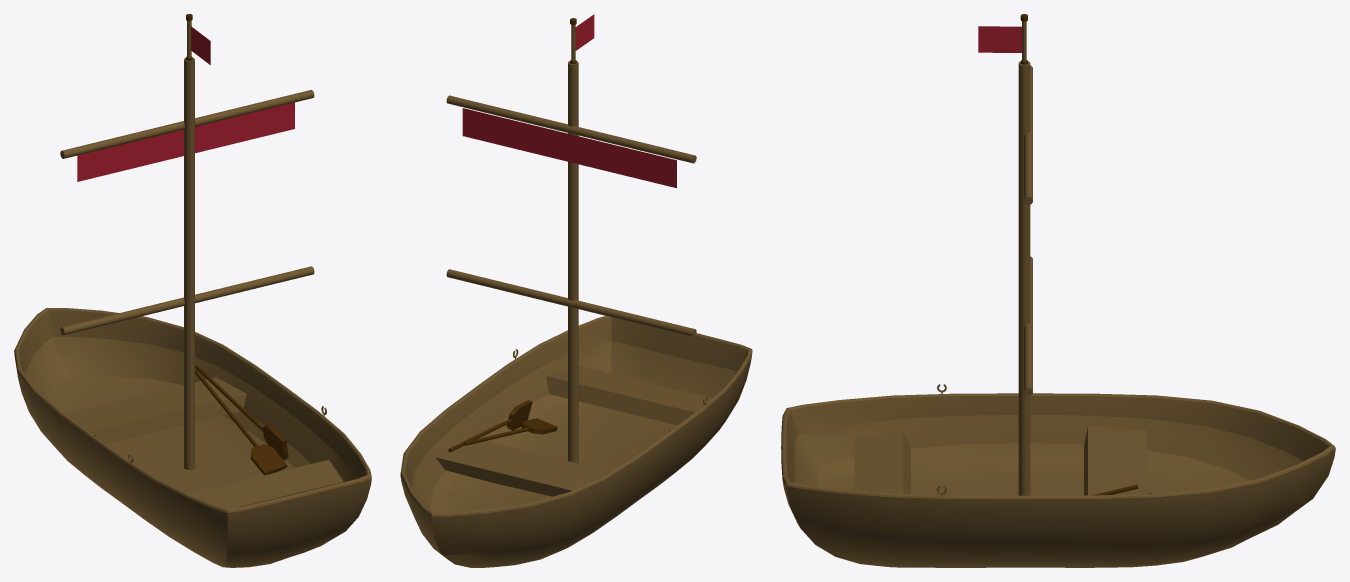
File: boat2.fbx
3 renders of one model, left to right at view 1: azimuth 30°, elevation 25°; view 2: azimuth 150°, elevation 25°; view 3: azimuth 270°, elevation 25°, orthographic. The views are drawn at different scales.
Visible parts, largest first — view 1: Sphere; view 2: Sphere; view 3: Sphere.
Part boxes in pixels (bbox=[...]): Sphere: bbox=[14, 14, 371, 567]; Sphere: bbox=[400, 14, 752, 567]; Sphere: bbox=[781, 14, 1335, 567].
Bounding box in the file's own units: 1.6 × 3.06 × 2.84.
